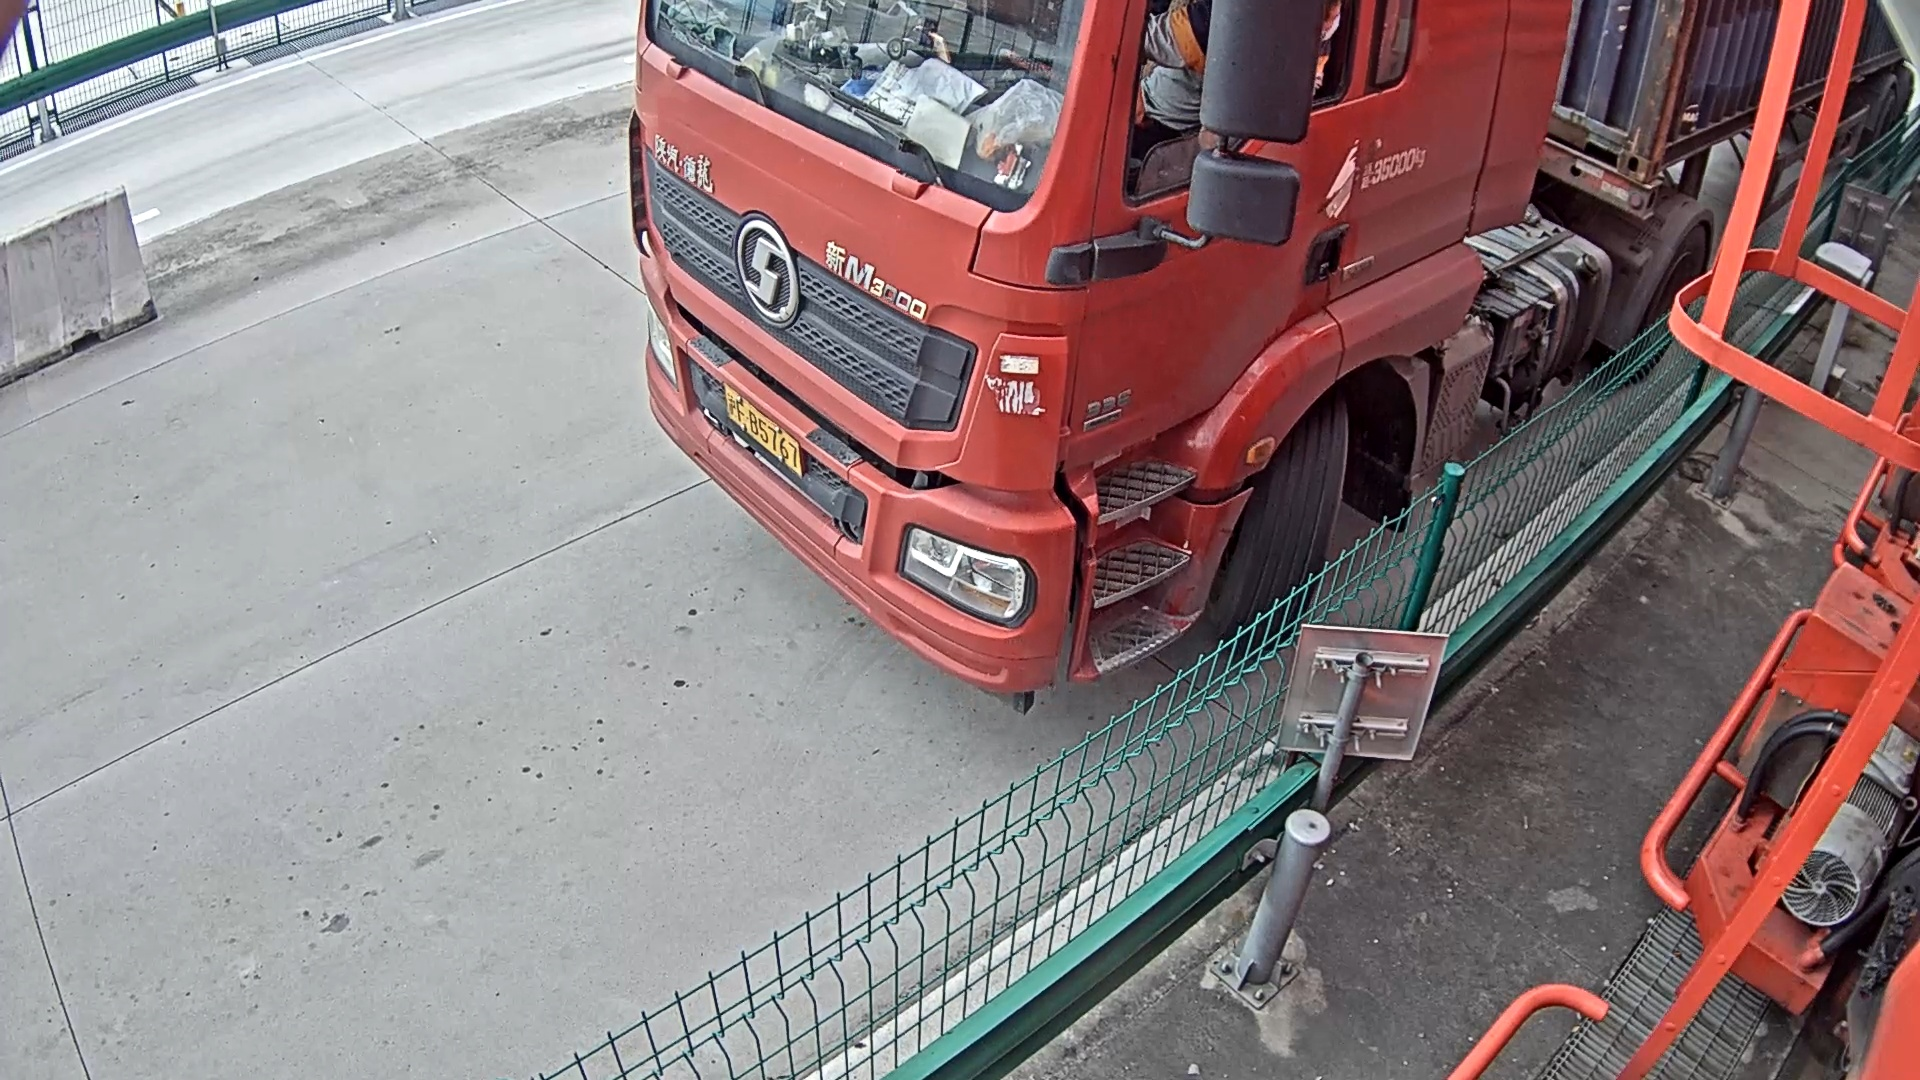head: (635, 1, 1570, 690)
plate: (725, 386, 802, 477)
